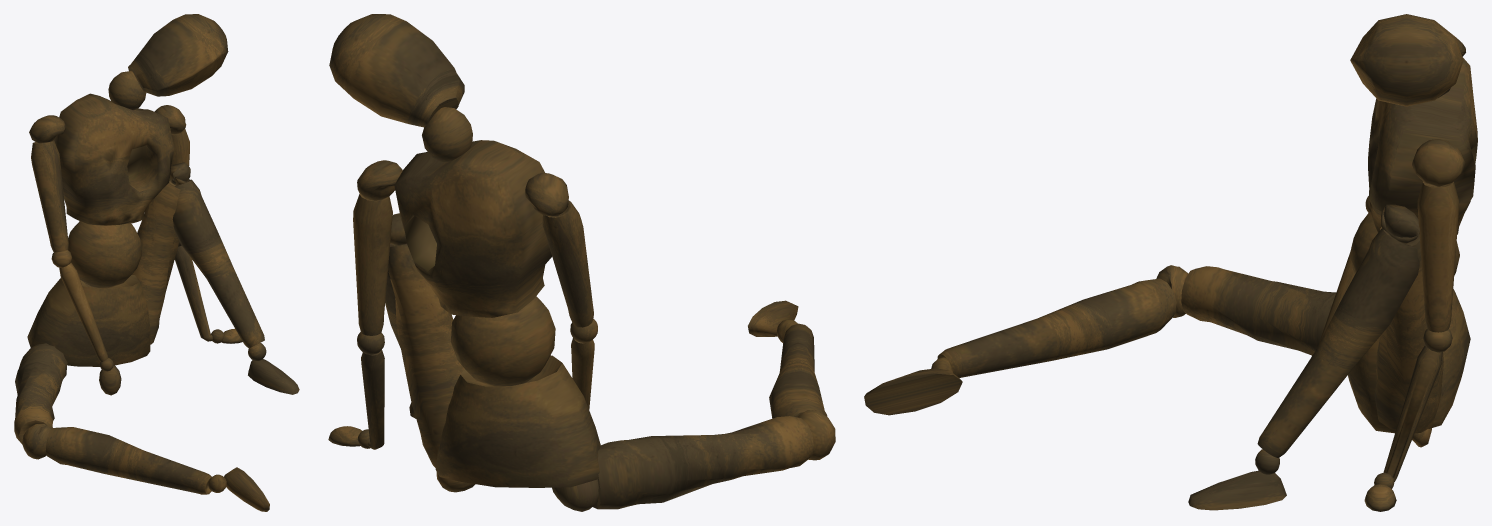
File: maniqui_pose3.fbx
The picture shows the model from 3 angles, left to right: view 1: azimuth 30°, elevation 25°; view 2: azimuth 150°, elevation 25°; view 3: azimuth 270°, elevation 25°; orthographic projection. The views are drawn at different scales.
Visible parts, largest first — view 1: dummy_obj.003; view 2: dummy_obj.003; view 3: dummy_obj.003.
Boxes of the visible parts, x1,y1,x2,y2 form: dummy_obj.003: (14,14,299,511); dummy_obj.003: (328,14,835,511); dummy_obj.003: (864,14,1477,511).
Bounding box in the file's own units: 72.58 × 78.06 × 91.4.
